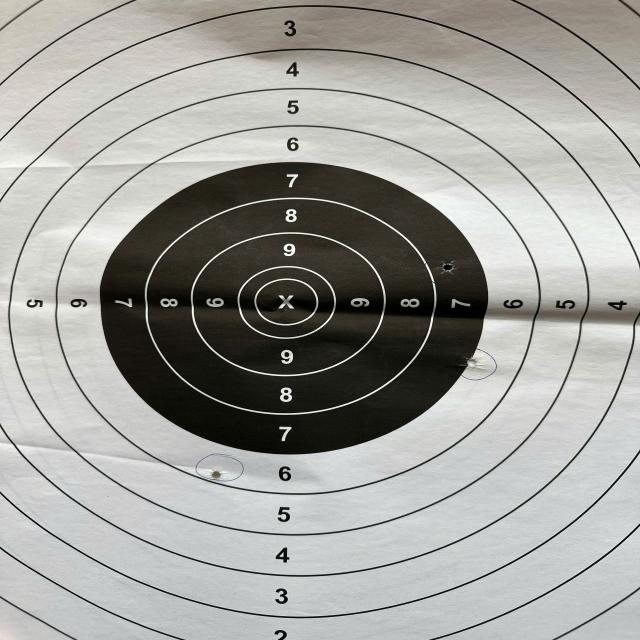bullet: (464, 356, 480, 368), (212, 468, 220, 480), (444, 260, 452, 272)
target: (0, 0, 640, 640)
